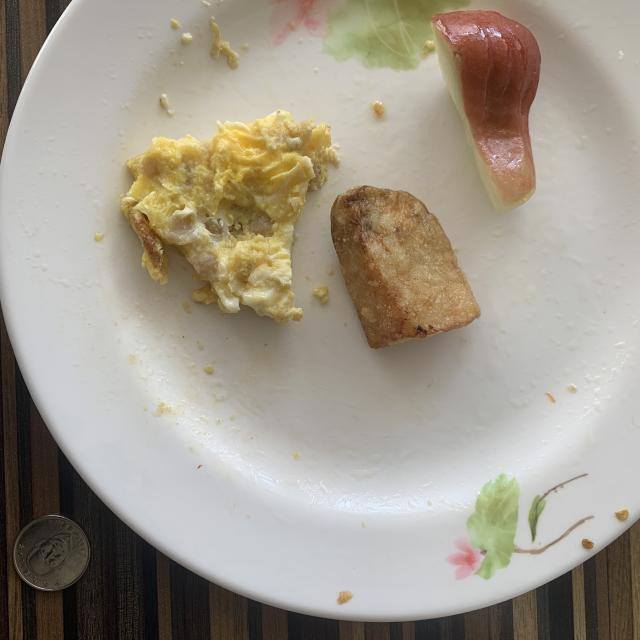coin: (14, 515, 90, 591)
fried potato: (331, 186, 480, 349)
